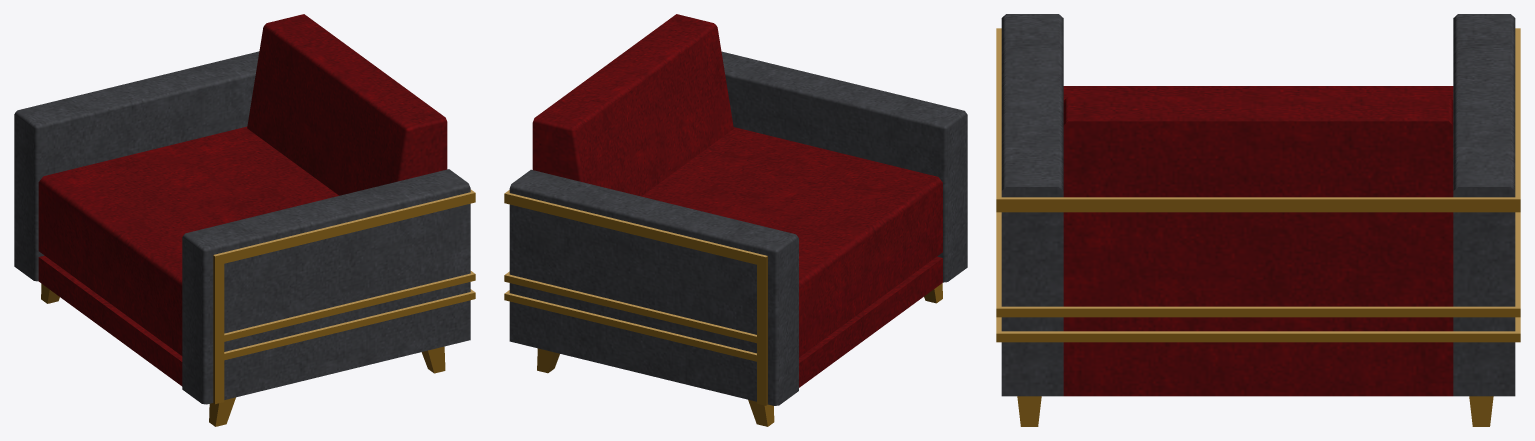
File: player_chair.FBX
The picture shows the model from 3 angles, left to right: view 1: azimuth 30°, elevation 25°; view 2: azimuth 150°, elevation 25°; view 3: azimuth 270°, elevation 25°; orthographic projection. The views are drawn at different scales.
Visible parts, largest first — view 1: mesh_chair_024; view 2: mesh_chair_024; view 3: mesh_chair_024.
Boxes of the visible parts, x1,y1,x2,y2 form: mesh_chair_024: [14, 14, 475, 426]; mesh_chair_024: [504, 14, 967, 426]; mesh_chair_024: [996, 14, 1520, 426].
Bounding box in the file's own units: 1.12 × 1.4 × 0.9357.
